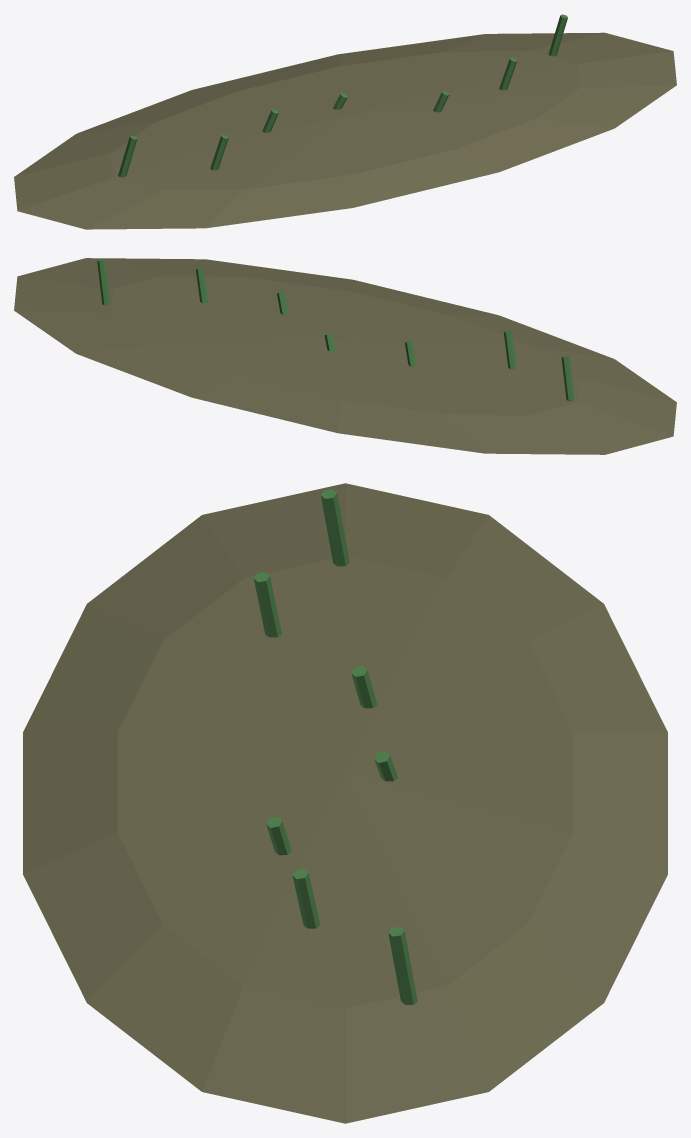
The model's file is delta_island_a.obj.
The picture shows the model from 3 angles, top to bottom: view 1: azimuth 30°, elevation 25°; view 2: azimuth 150°, elevation 25°; view 3: azimuth 270°, elevation 25°; orthographic projection. The views are drawn at different scales.
Parts seen in each view (by area): view 1: island, filter_stalk_0, filter_stalk_6; view 2: island, filter_stalk_6, filter_stalk_0, filter_stalk_1, filter_stalk_5; view 3: island, filter_stalk_6, filter_stalk_0, filter_stalk_1, filter_stalk_5.
Boxes of the visible parts, x1,y1,x2,y2 form: island: (14, 32, 676, 229); filter_stalk_0: (118, 135, 137, 177); filter_stalk_6: (548, 14, 567, 56); island: (14, 258, 676, 454); filter_stalk_6: (97, 259, 110, 305); filter_stalk_0: (561, 356, 574, 401); filter_stalk_1: (503, 330, 516, 369); filter_stalk_5: (195, 268, 208, 303); island: (23, 483, 667, 1123); filter_stalk_6: (388, 927, 417, 1004); filter_stalk_0: (321, 489, 349, 566); filter_stalk_1: (253, 572, 281, 637); filter_stalk_5: (292, 869, 320, 928).
Size of the model in its own units: 11 by 1.05 by 4.68.
